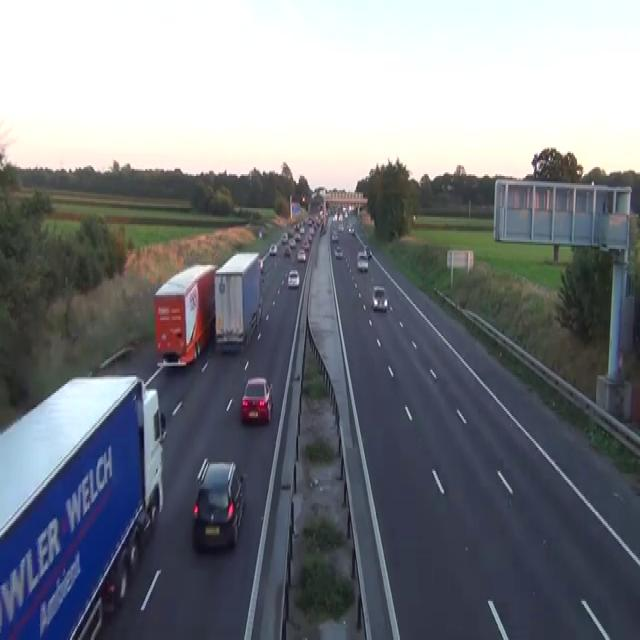Car: (192, 457, 245, 551), (101, 523, 141, 615), (101, 549, 128, 615), (240, 377, 273, 425), (73, 596, 103, 638), (371, 285, 387, 311), (356, 251, 368, 272), (287, 268, 299, 288), (257, 297, 262, 323), (334, 245, 343, 258), (363, 244, 371, 258), (297, 249, 306, 261), (269, 244, 277, 256), (331, 229, 338, 242), (281, 231, 288, 244), (319, 222, 326, 235), (259, 258, 264, 274), (283, 245, 290, 256), (302, 238, 309, 249), (348, 224, 354, 235), (288, 238, 295, 247), (233, 204, 240, 213), (446, 183, 454, 190), (294, 233, 300, 242), (307, 217, 313, 226), (300, 194, 305, 204), (338, 222, 343, 231), (258, 228, 262, 238), (299, 226, 304, 233)
Truck: (0, 374, 166, 638), (154, 262, 217, 366), (214, 251, 263, 352)
